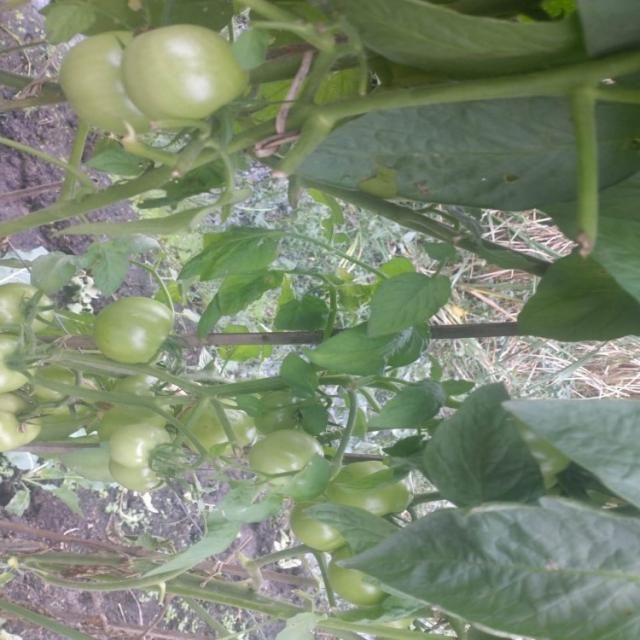tomato: (126, 24, 251, 115), (59, 34, 150, 141), (92, 293, 179, 372), (324, 453, 411, 522), (242, 425, 319, 493), (109, 423, 179, 491), (184, 389, 257, 454), (1, 273, 56, 337), (1, 385, 46, 458), (329, 555, 380, 608), (293, 495, 337, 556), (44, 368, 94, 421), (3, 336, 42, 388)
